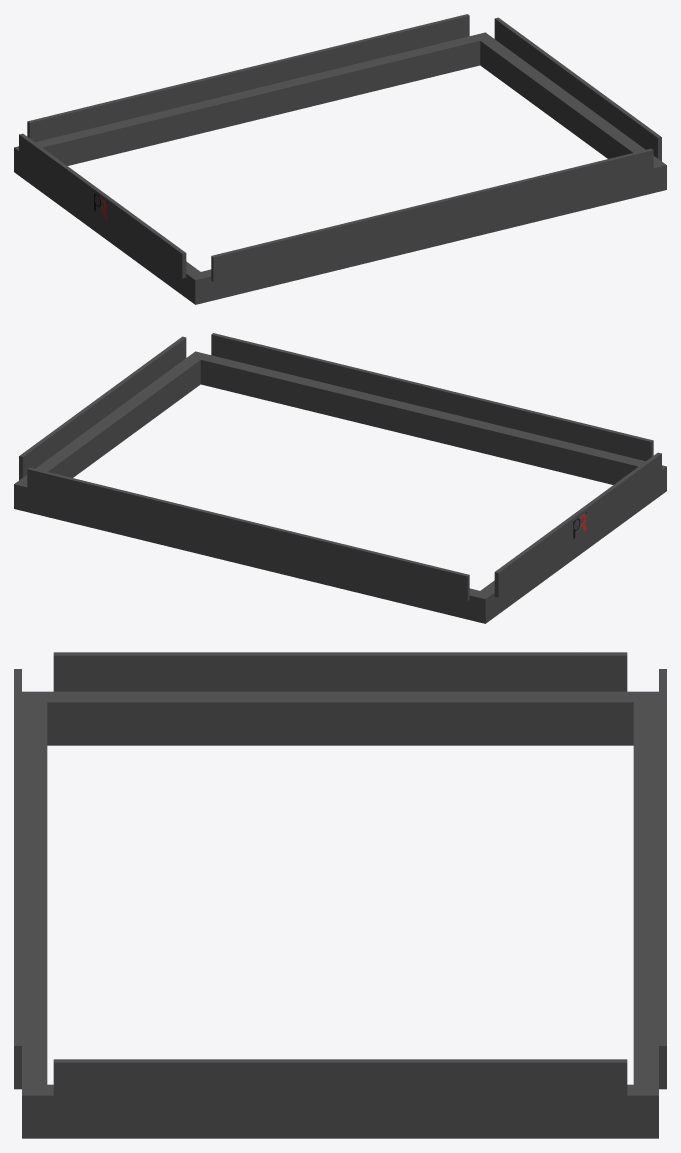
Rendered from Rectangle 1 Black Coated Finish.glb.
The picture shows the model from 3 angles, top to bottom: view 1: azimuth 30°, elevation 25°; view 2: azimuth 150°, elevation 25°; view 3: azimuth 270°, elevation 25°; orthographic projection. The views are drawn at different scales.
Visible parts, largest first — view 1: Body1, Body4, Body2, Body5, Body3; view 2: Body1, Body2, Body4, Body5, Body3; view 3: Body1, Body3, Body5, Body2, Body4.
Part boxes in pixels (left/top/right/bottom): Body1: left=14, top=32, right=666, bottom=304; Body4: left=211, top=148, right=653, bottom=281; Body2: left=27, top=14, right=469, bottom=142; Body5: left=19, top=133, right=186, bottom=278; Body3: left=494, top=17, right=661, bottom=161; Body1: left=14, top=351, right=666, bottom=623; Body2: left=27, top=467, right=469, bottom=600; Body4: left=211, top=333, right=653, bottom=461; Body5: left=494, top=452, right=661, bottom=597; Body3: left=19, top=336, right=186, bottom=480; Body1: left=22, top=691, right=658, bottom=1138; Body3: left=53, top=1059, right=627, bottom=1105; Body5: left=53, top=652, right=627, bottom=691; Body2: left=659, top=669, right=666, bottom=1089; Body4: left=14, top=669, right=21, bottom=1089.
Bounding box in the file's own units: 0.7747 × 0.0698 × 0.5207.
5 materials, 1 textured.
